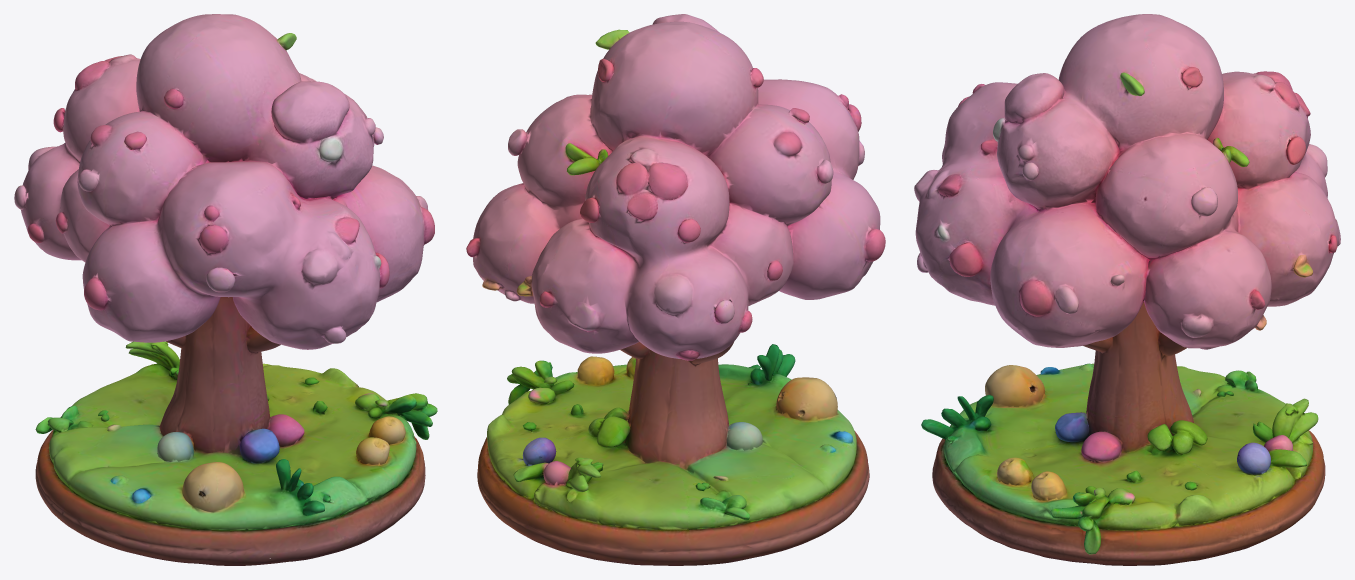
Rendered from env_nest_tree_candy_02.glb.
3 renders of one model, left to right at view 1: azimuth 30°, elevation 25°; view 2: azimuth 150°, elevation 25°; view 3: azimuth 270°, elevation 25°, orthographic.
Visible parts, largest first — view 1: tripo_node_c512a2dc-3a10-48f0-996d-6f74982e16c1; view 2: tripo_node_c512a2dc-3a10-48f0-996d-6f74982e16c1; view 3: tripo_node_c512a2dc-3a10-48f0-996d-6f74982e16c1.
Boxes of the visible parts, <box> form: tripo_node_c512a2dc-3a10-48f0-996d-6f74982e16c1: <box>14,14,437,565</box>; tripo_node_c512a2dc-3a10-48f0-996d-6f74982e16c1: <box>466,14,885,565</box>; tripo_node_c512a2dc-3a10-48f0-996d-6f74982e16c1: <box>914,14,1340,565</box>.
Bounding box in the file's own units: 2.62 × 3.2 × 2.68.
Materials: 1 (1 with a texture image).
